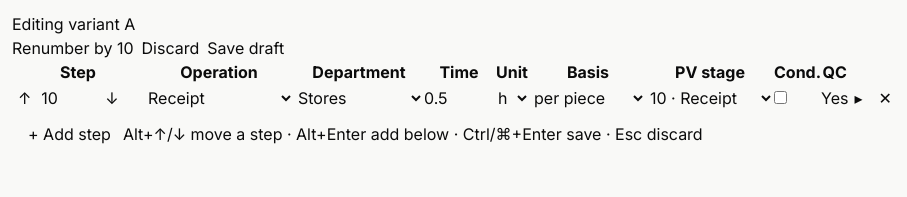
Test: StepEditor › puts a server finding on the cell it is about, and marks it invalid
The width and height of the screenshot is (907, 197).
Click the button "Save draft" at [246, 48], box [207, 36, 284, 60]
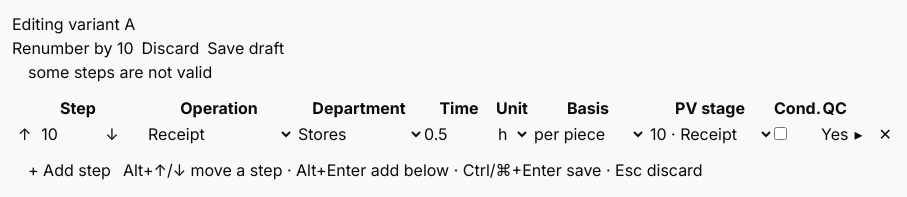
Check: the text "some steps are not valid" is shown, box [28, 60, 212, 84]
